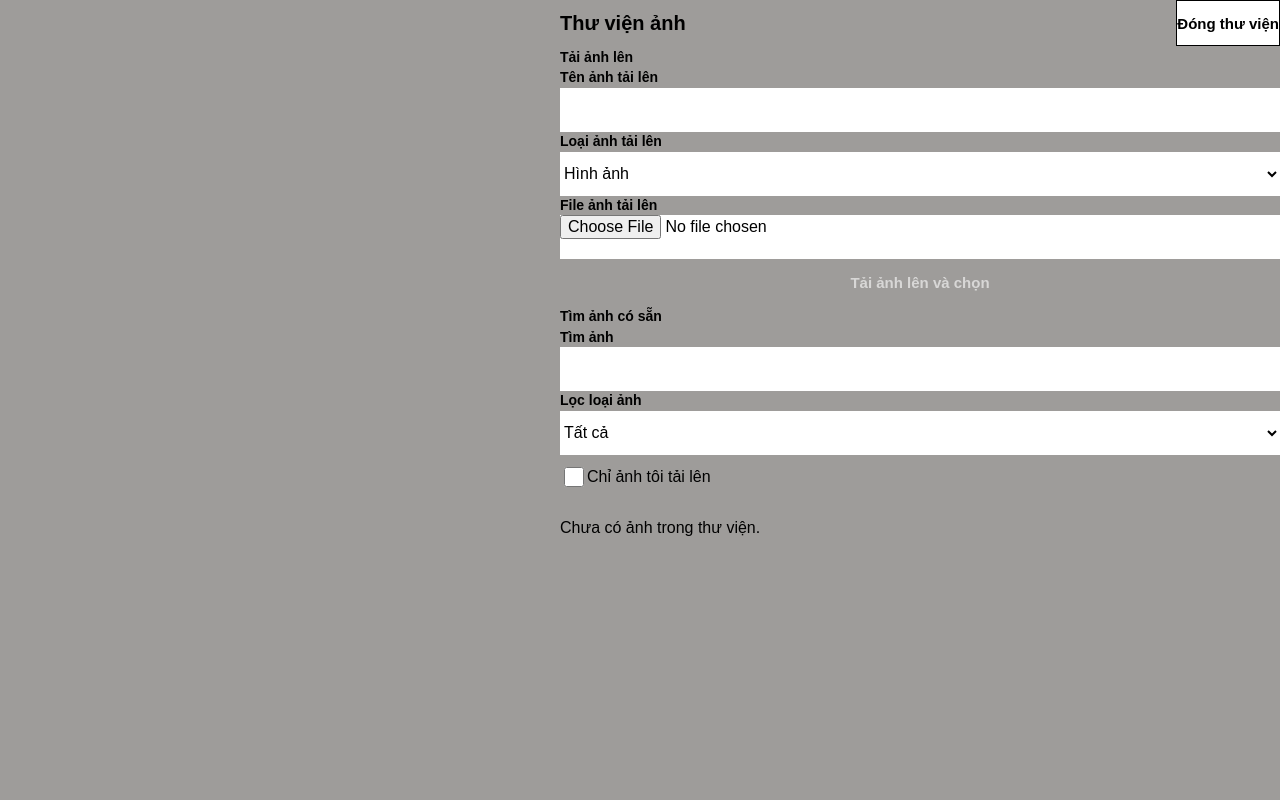
it: asset library owner and query generation (005 US1) › rejects late search results when the next query fails
Type "new query" into the field labelled "Tìm ảnh".
click(920, 369); type("new query")  # box 560,347 -> 1279,391
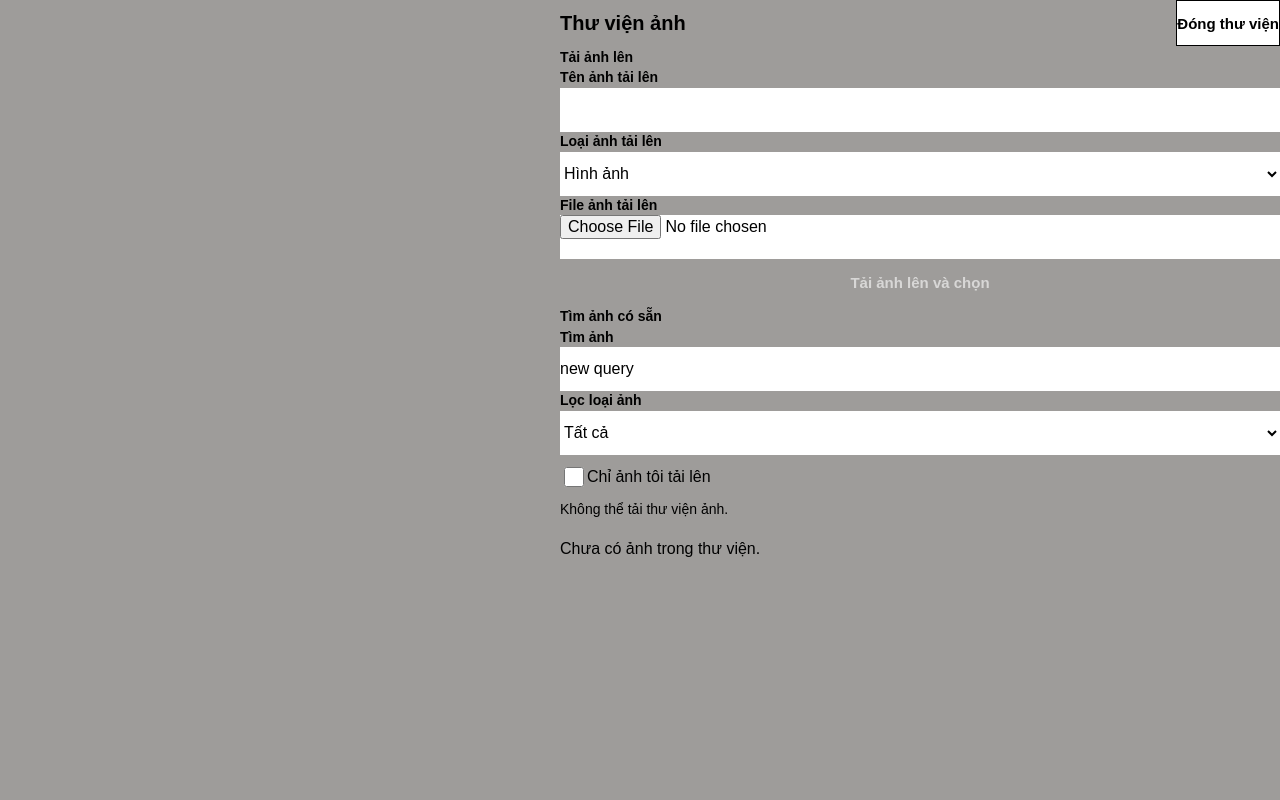
Result: the message "Không thể tải thư viện ảnh." is shown at 560,501 -> 728,517
